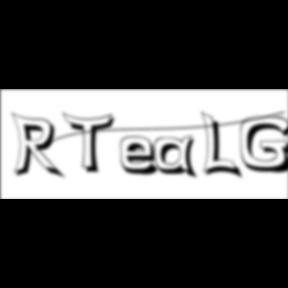L: (201, 110, 245, 182)
R: (12, 112, 68, 182)
T: (62, 112, 120, 176)
a: (155, 135, 203, 182)
e: (120, 135, 166, 178)
